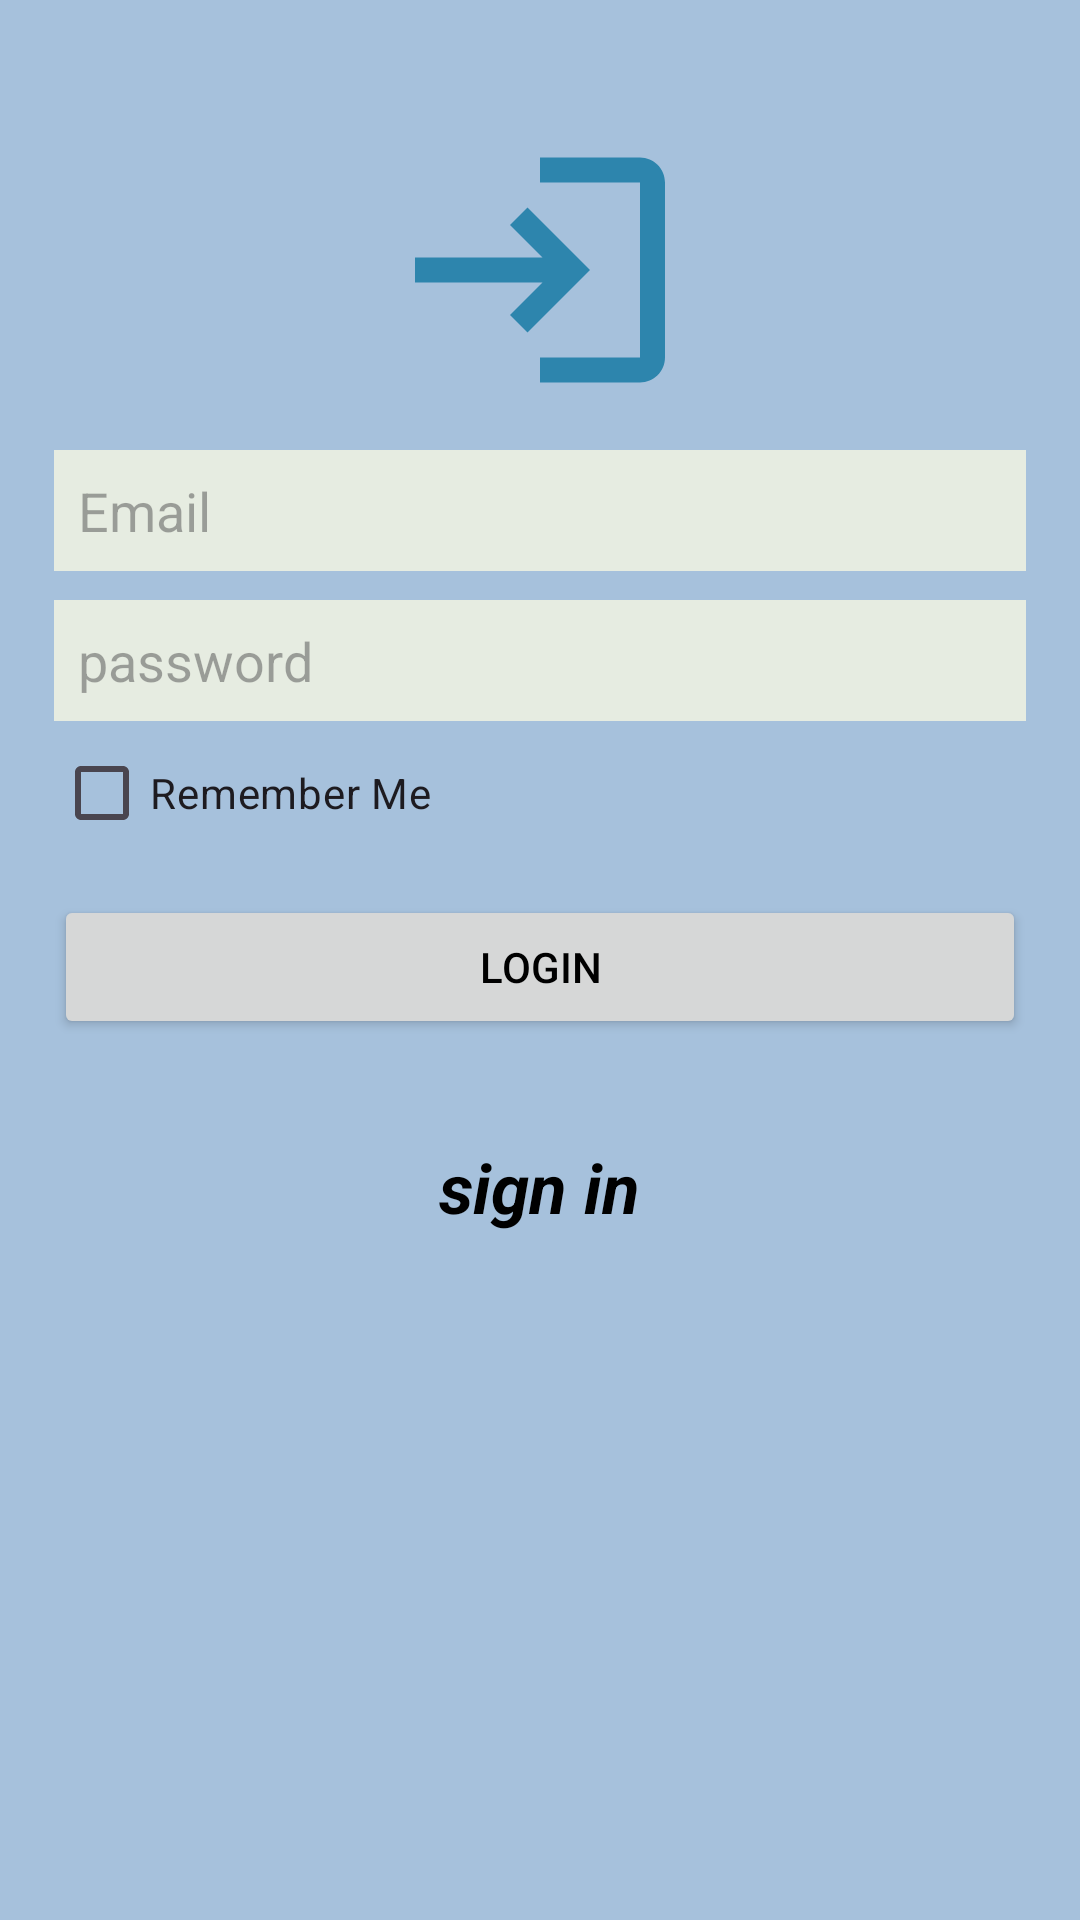

Named icons in this screenshot (1080 × 1920) and their centers, (x=x, y=y):
login: (x=540, y=270)
